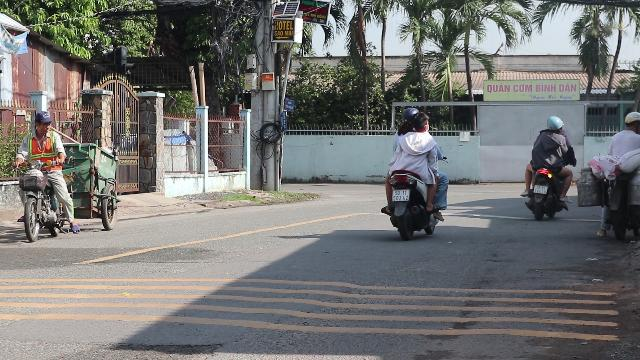helmet: (412, 110, 431, 132), (399, 107, 418, 127), (624, 111, 640, 131)
licenseplate: (392, 190, 408, 200)
motorcyclist: (378, 106, 448, 240), (11, 110, 77, 240), (598, 110, 640, 240)
nohelmet: (32, 111, 52, 133)
